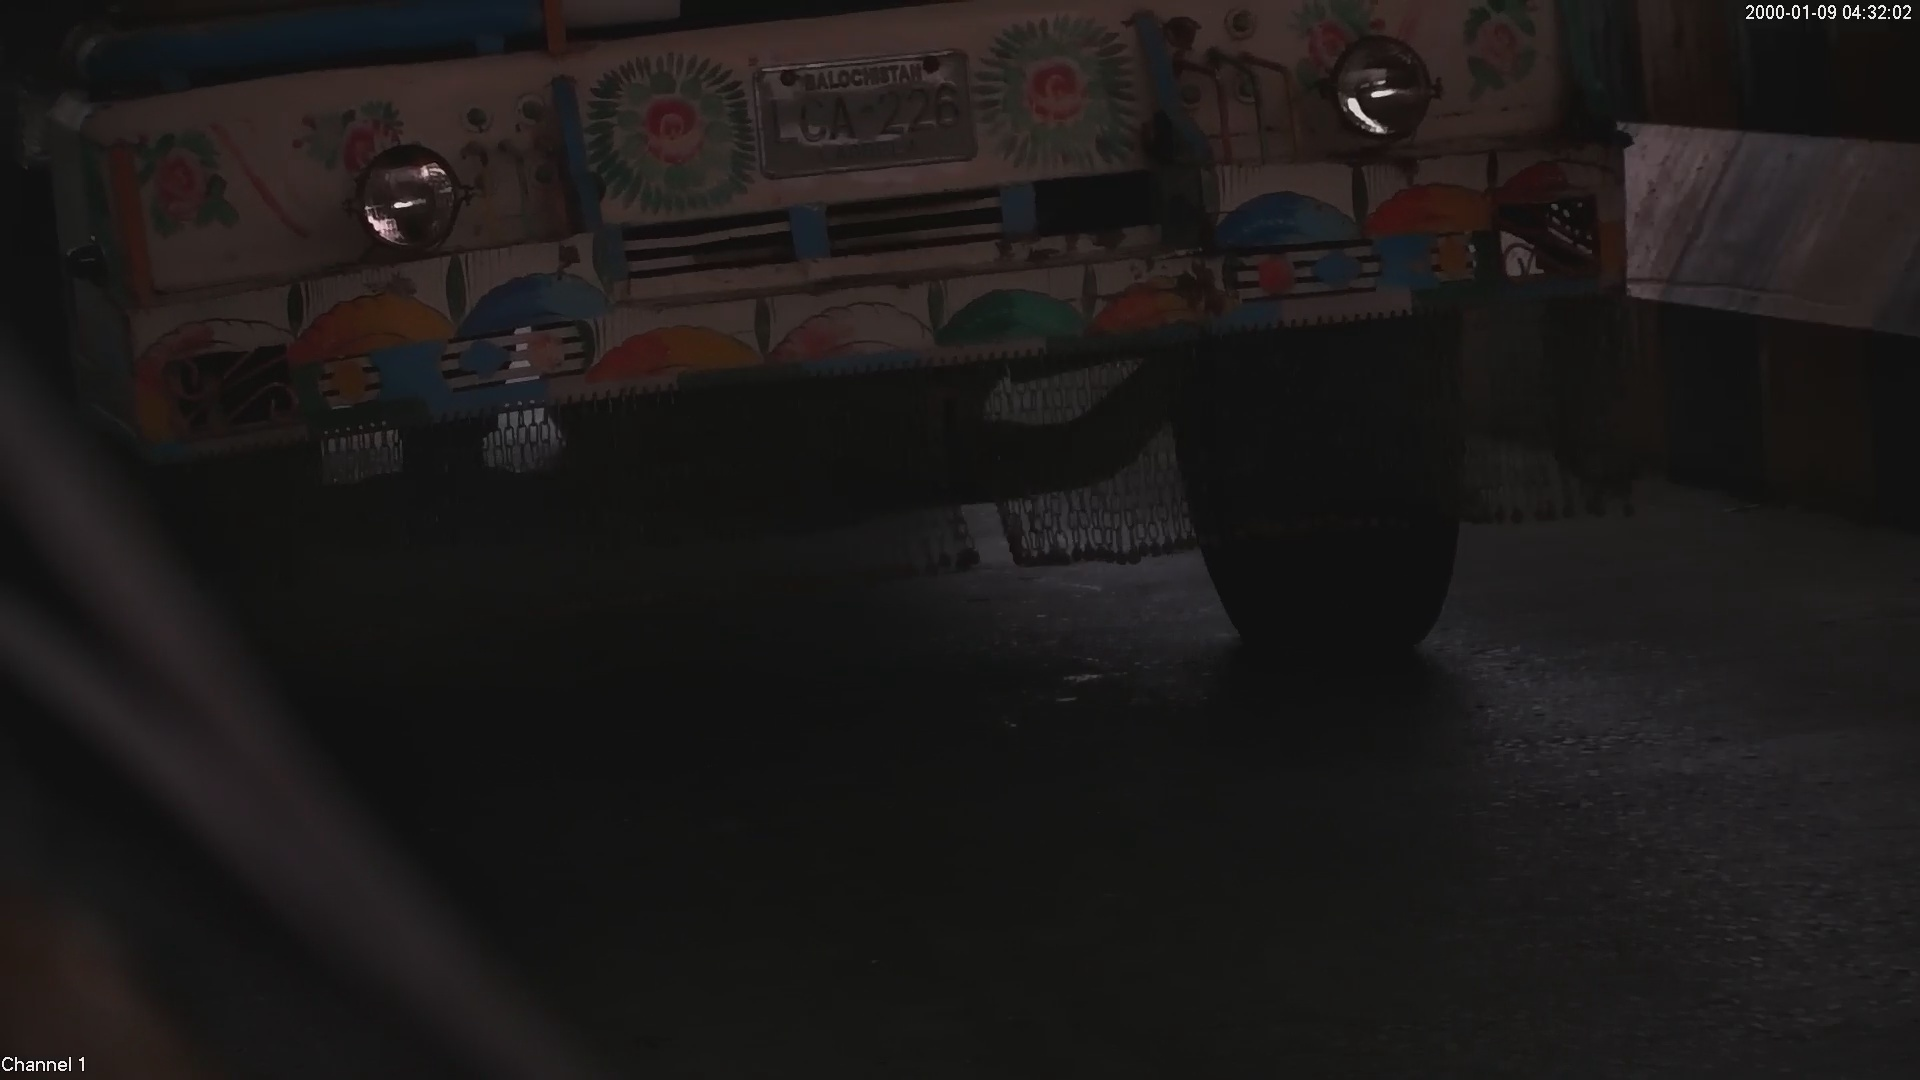Number_Plate: (741, 40, 989, 177)
